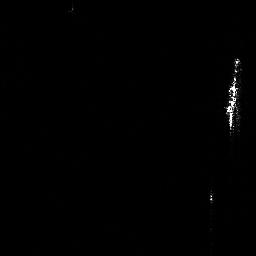ship: (225, 56, 241, 128)
